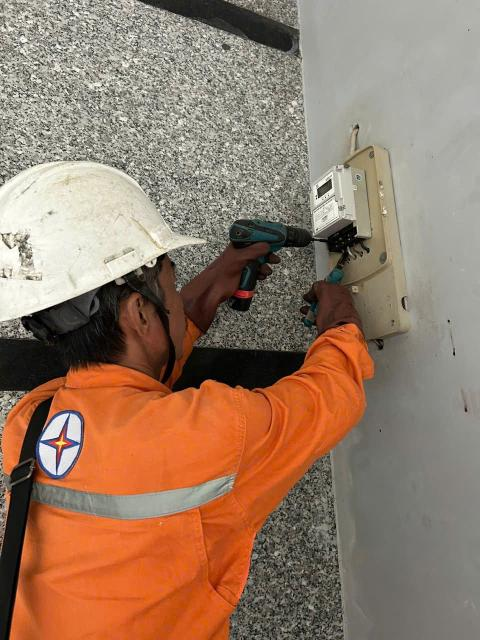gloves: (151, 225, 286, 340), (282, 277, 371, 348)
helmet: (0, 139, 207, 318)
